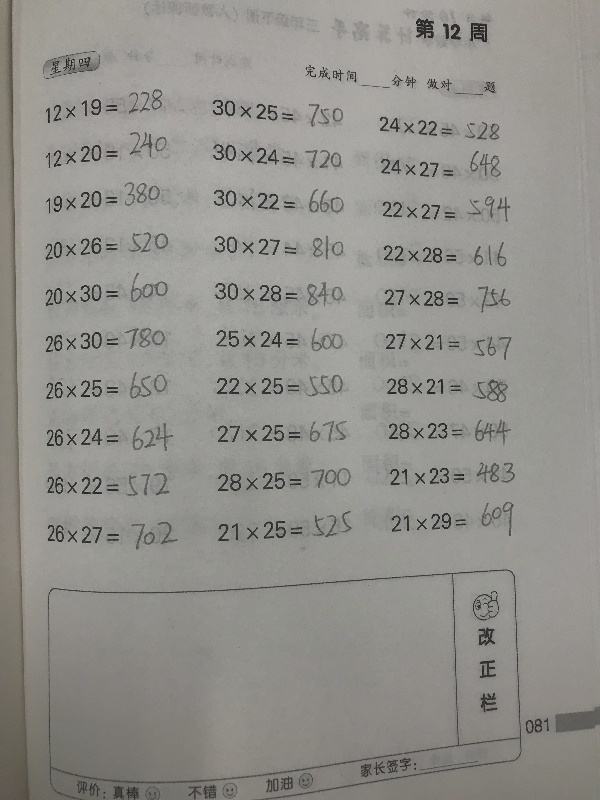equation: (42, 130, 170, 174), (45, 81, 166, 127), (43, 515, 179, 552), (209, 95, 347, 131), (387, 496, 516, 534), (214, 513, 356, 547), (41, 275, 171, 312), (380, 281, 512, 315), (385, 325, 517, 359), (43, 368, 171, 403), (379, 193, 514, 226), (209, 140, 343, 173), (214, 461, 352, 493), (213, 324, 347, 356), (210, 186, 348, 217), (43, 417, 171, 450), (212, 279, 347, 310), (379, 237, 509, 269), (373, 112, 504, 143), (378, 150, 509, 181), (44, 469, 174, 500), (384, 414, 514, 445), (214, 417, 351, 446), (41, 180, 168, 211), (213, 372, 346, 401), (383, 372, 511, 402), (383, 459, 518, 487), (41, 231, 172, 259), (41, 325, 168, 353), (210, 233, 299, 258)
